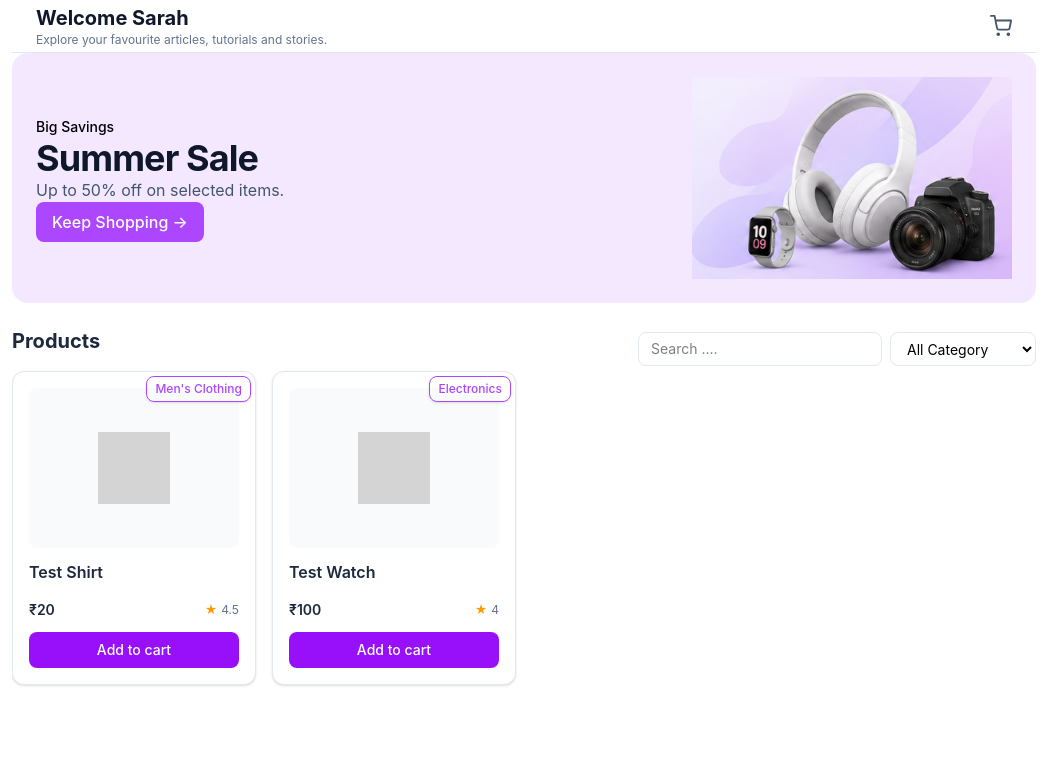
Test: ProductList › adds a product to the cart and increments the Navbar cart badge when 'Add to cart' is clicked
This screenshot has width=1048, height=768.
Check: the heading "Test Shirt" is shown, box [29,562,103,582]
Click the button "Add to cart" below "20" at (134, 650), box [29,632,239,668]
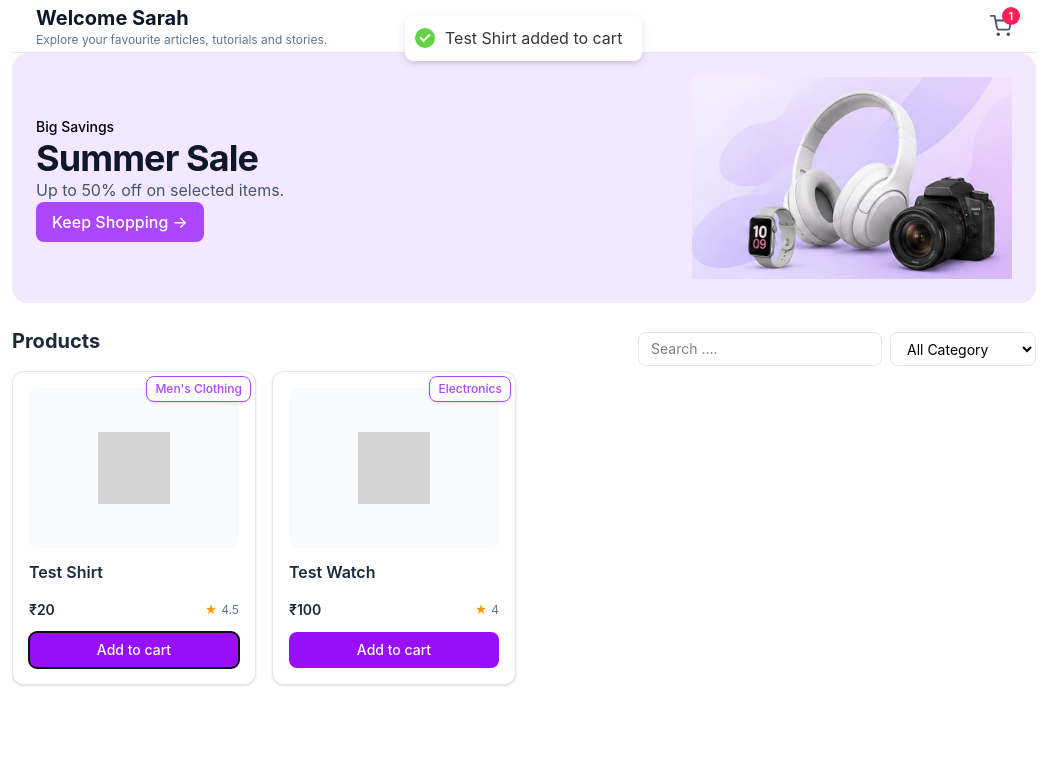
Check: the text "1" is shown, box [1002,7,1020,25]
Check: the text "Test Shirt added to cart" is shown, box [445,28,623,49]
